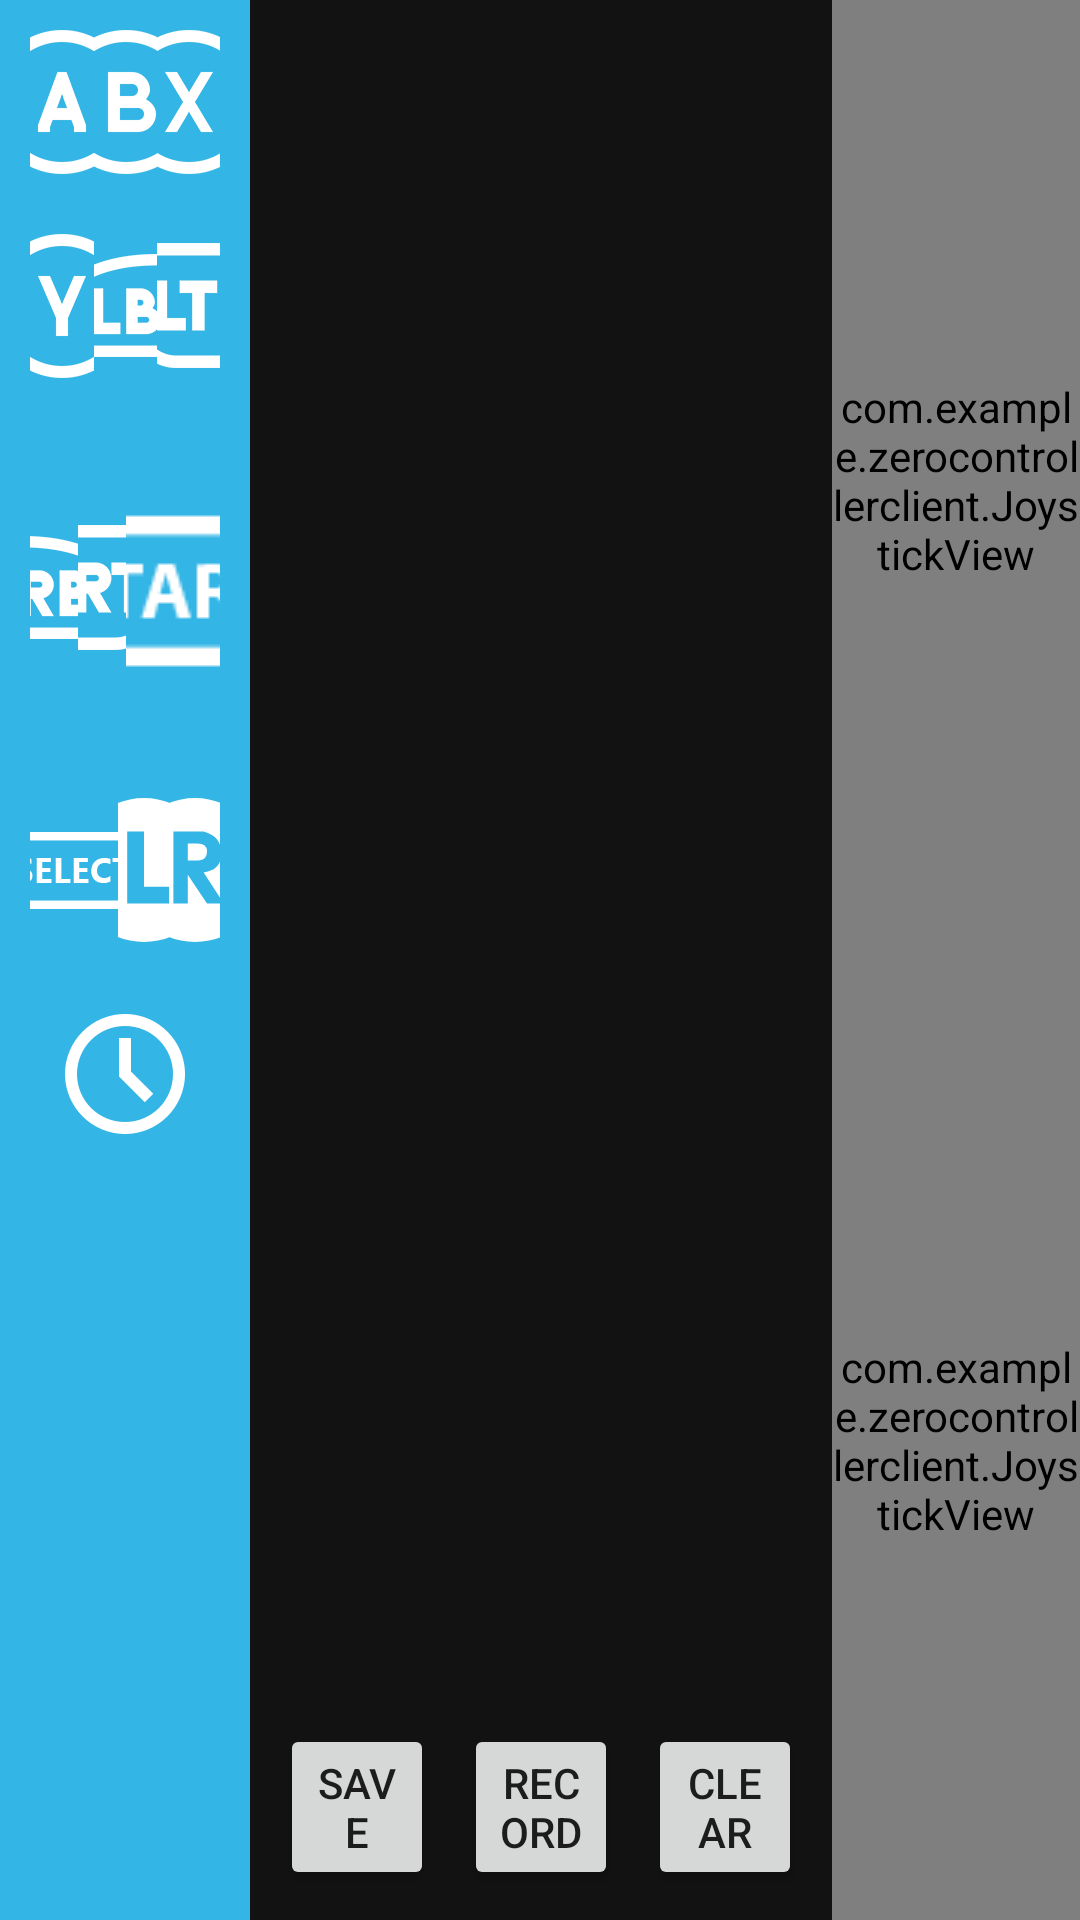

Icon click points for this 1080x1920 phone screenshot, format [x,y]:
delay: [125,1074]
